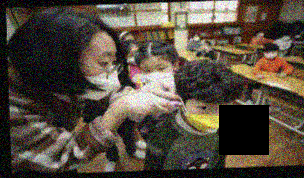with_mask: (78, 48, 120, 101), (180, 95, 233, 134), (138, 59, 174, 84), (124, 48, 138, 66), (262, 47, 279, 61), (281, 34, 290, 42), (192, 34, 199, 42), (258, 31, 265, 38)
